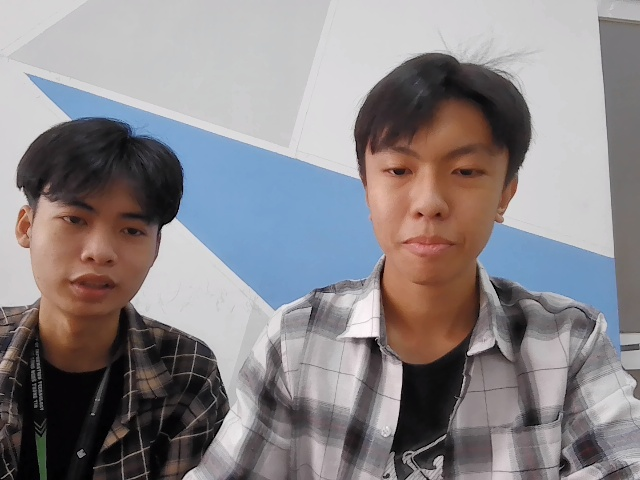human: (359, 47, 534, 296), (15, 122, 199, 327)
